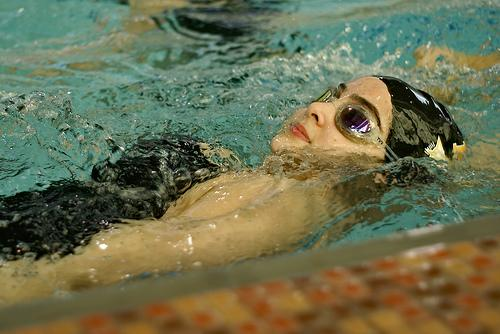swimmer: (0, 67, 500, 304)
